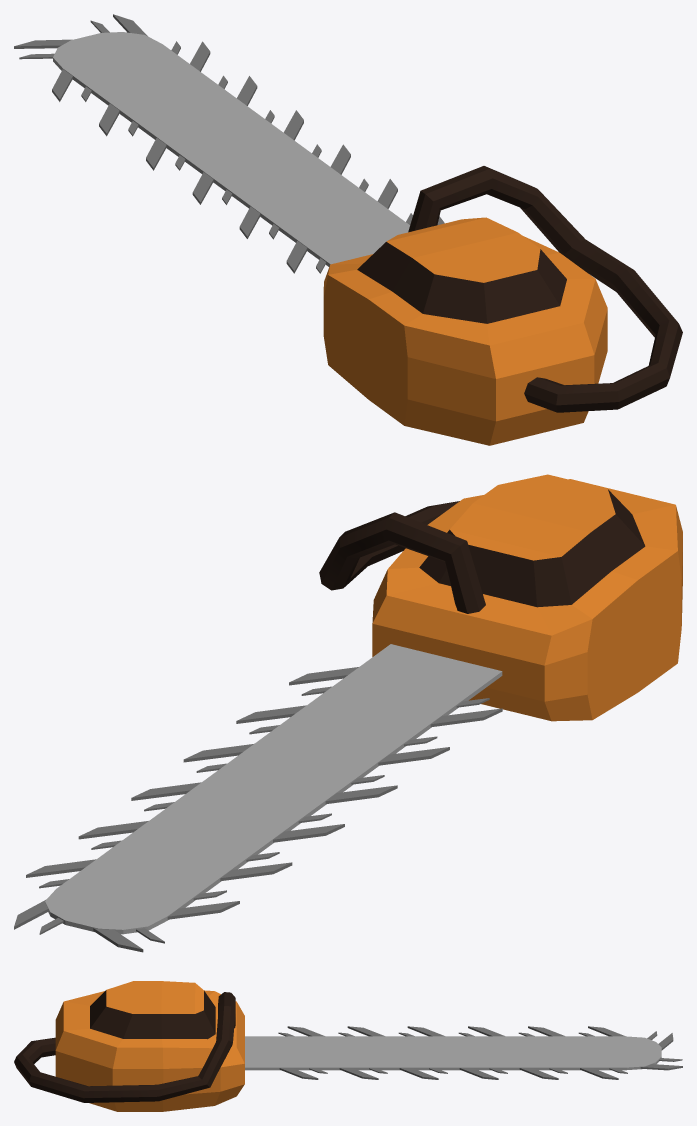
File: Saw.fbx
3 renders of one model, top to bottom at view 1: azimuth 30°, elevation 25°; view 2: azimuth 150°, elevation 25°; view 3: azimuth 270°, elevation 25°, orthographic. The views are drawn at different scales.
Visible parts, largest first — view 1: Saw; view 2: Saw; view 3: Saw.
Part boxes in pixels (left/top/right/bottom): Saw: left=14, top=14, right=682, bottom=445; Saw: left=14, top=474, right=682, bottom=952; Saw: left=14, top=981, right=682, bottom=1111.
Size of the model in its own units: 48.18 by 26.86 by 164.
